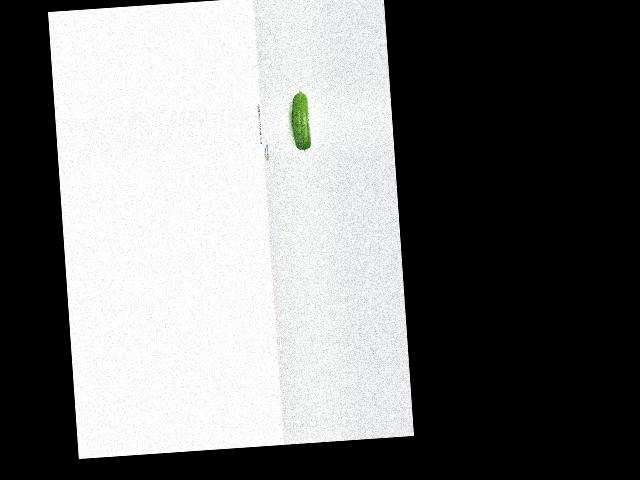cucumber: (290, 90, 311, 152)
